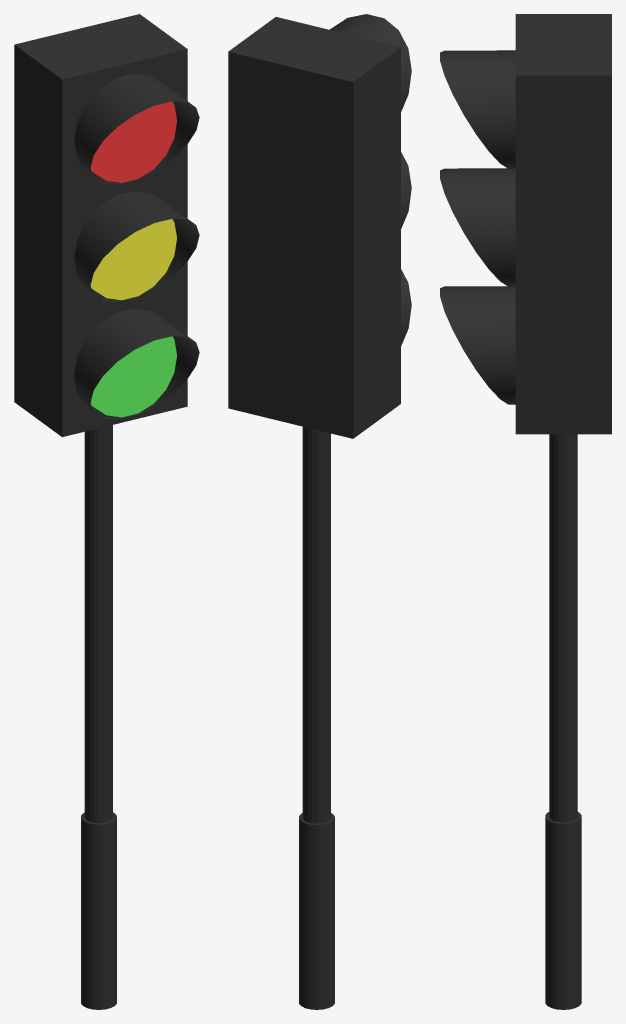
File: Traffic light.gltf
3 renders of one model, left to right at view 1: azimuth 30°, elevation 25°; view 2: azimuth 150°, elevation 25°; view 3: azimuth 270°, elevation 25°, orthographic.
Parts seen in each view (by area): view 1: node-0; view 2: node-0; view 3: node-0.
Part boxes in pixels (<box>): node-0: <box>14,14,199,1009</box>; node-0: <box>228,14,411,1009</box>; node-0: <box>440,14,611,1009</box>.
Bounding box in the file's own units: 206 × 1501 × 244.
